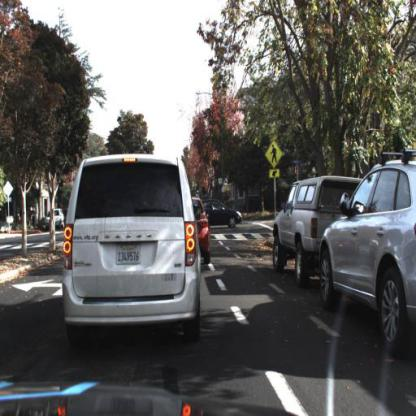car: (60, 150, 205, 347), (317, 146, 416, 353), (273, 172, 363, 289), (187, 195, 213, 269), (200, 199, 247, 230), (240, 192, 265, 219), (44, 206, 67, 231)
pedestrian: (29, 206, 40, 235)
